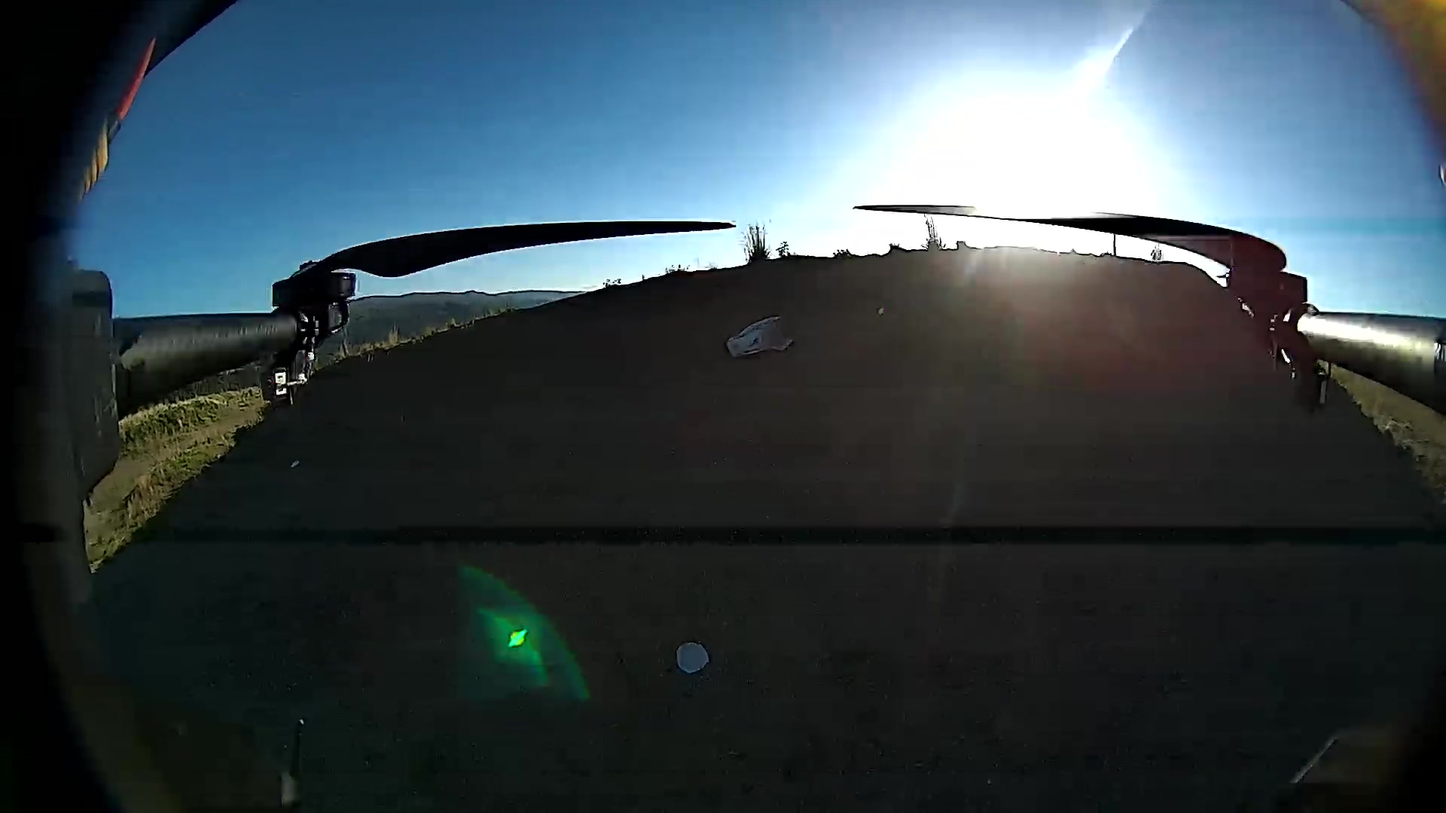Target: (673, 640, 712, 676)
